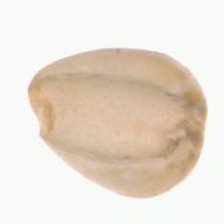L1: (176, 88, 209, 163), (25, 71, 59, 141)
L2: (25, 47, 208, 199)
